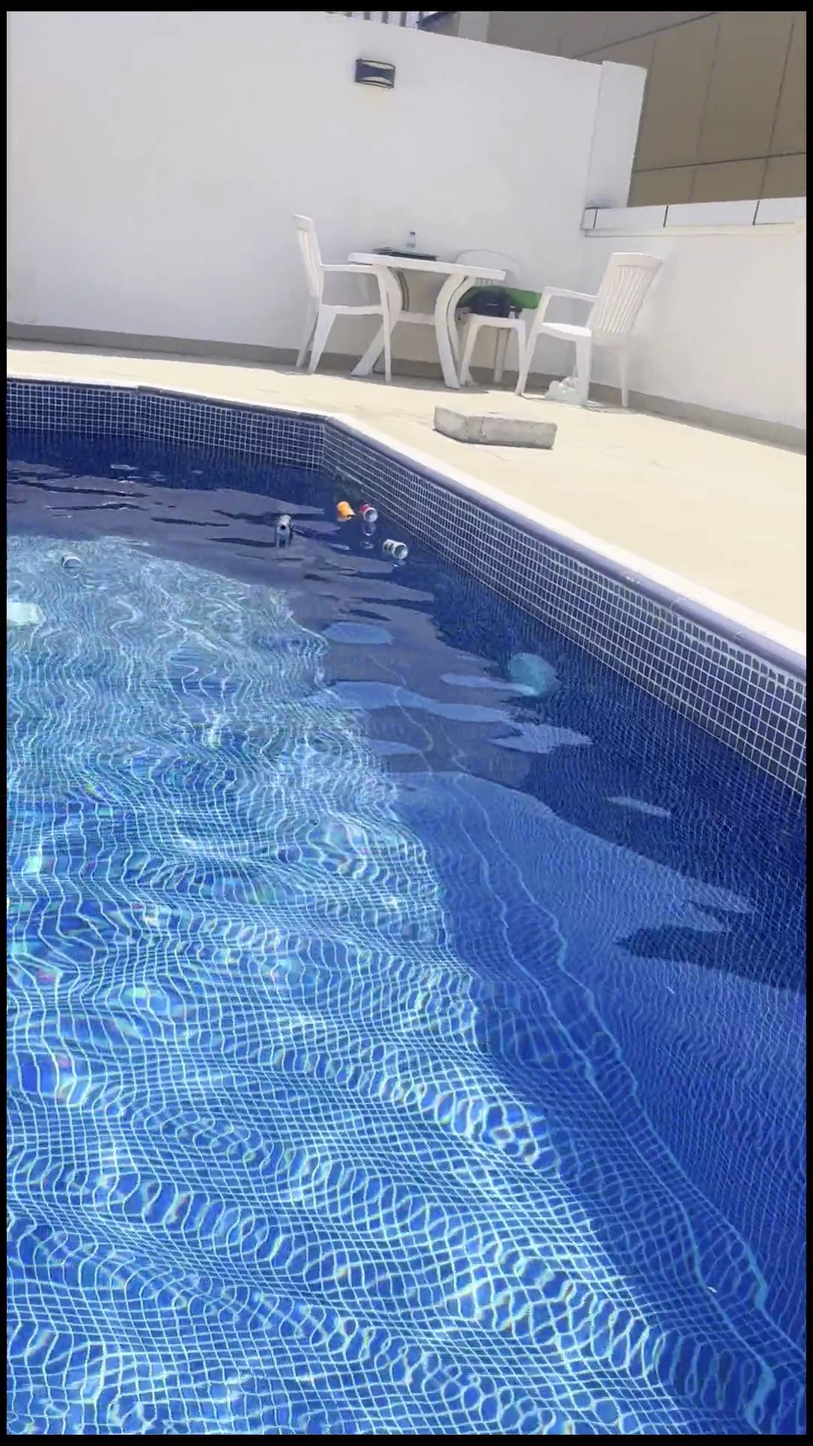debris: (373, 524, 410, 572), (329, 484, 355, 527), (269, 506, 294, 550), (352, 490, 376, 534)
